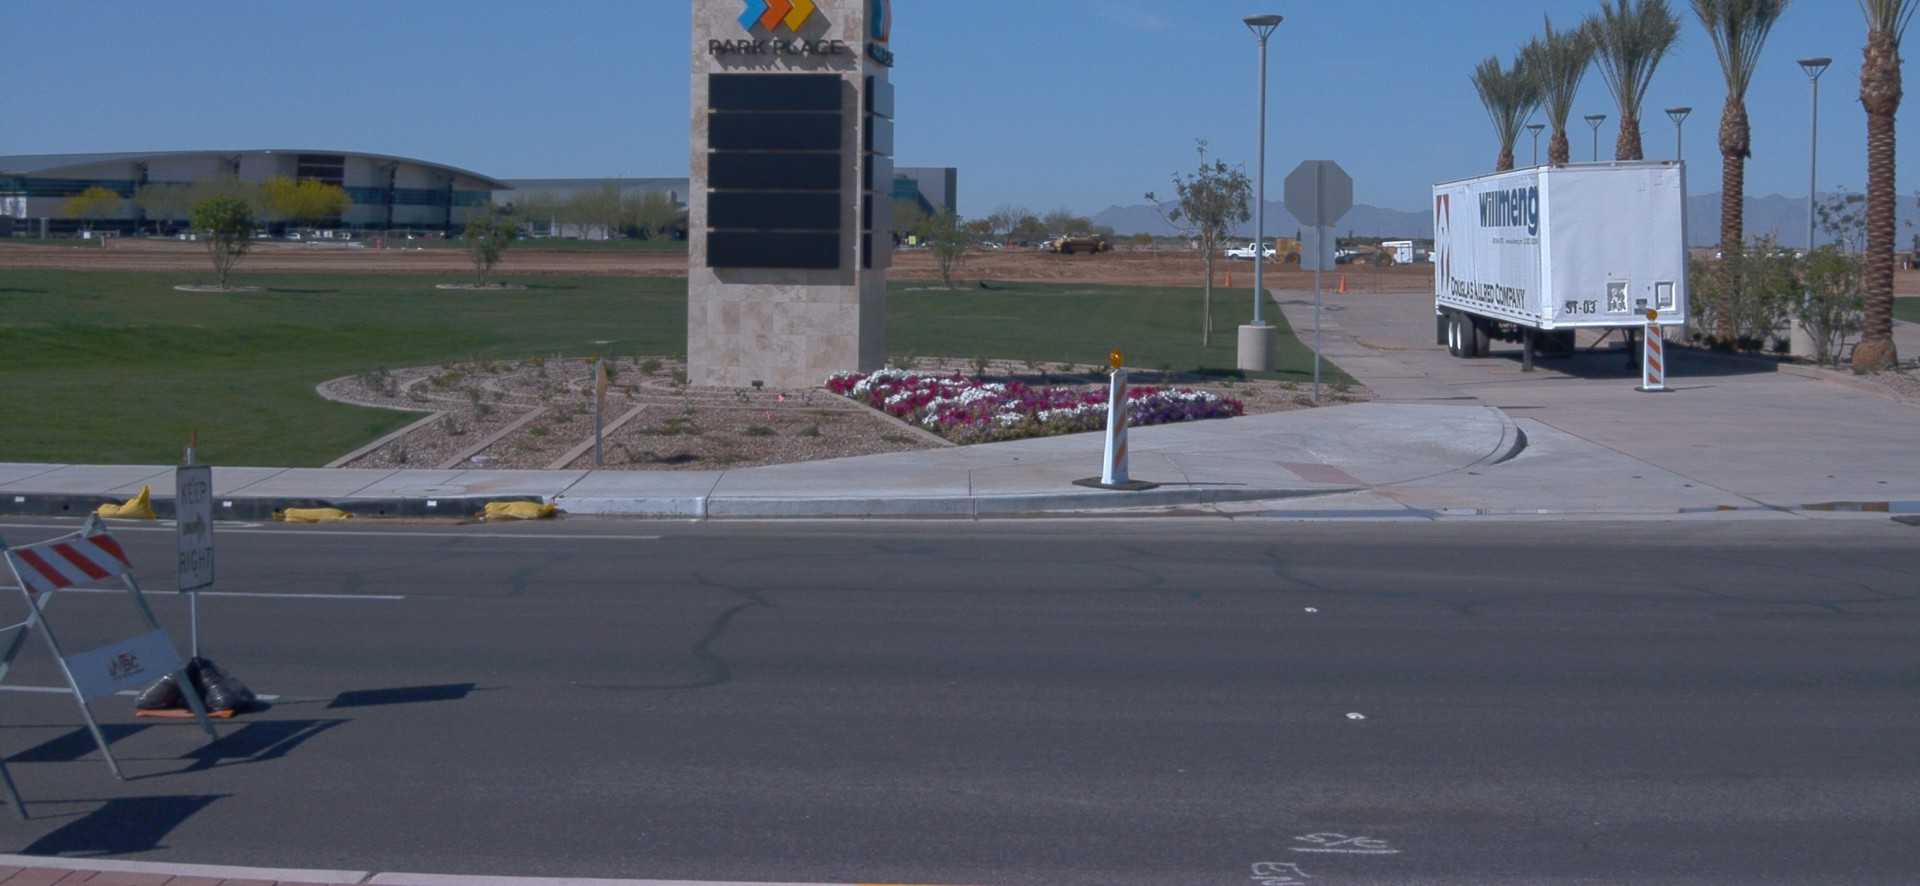TYPE_VEHICLE: (1428, 150, 1692, 369), (1275, 225, 1395, 270), (1040, 235, 1108, 255), (1377, 241, 1426, 263), (1223, 243, 1275, 261), (1763, 245, 1805, 259), (1714, 245, 1756, 259), (1906, 233, 1920, 267), (1038, 236, 1059, 254), (1335, 245, 1360, 259), (246, 230, 269, 241), (1426, 251, 1435, 265), (175, 232, 195, 237), (332, 233, 351, 238), (285, 233, 304, 238)
